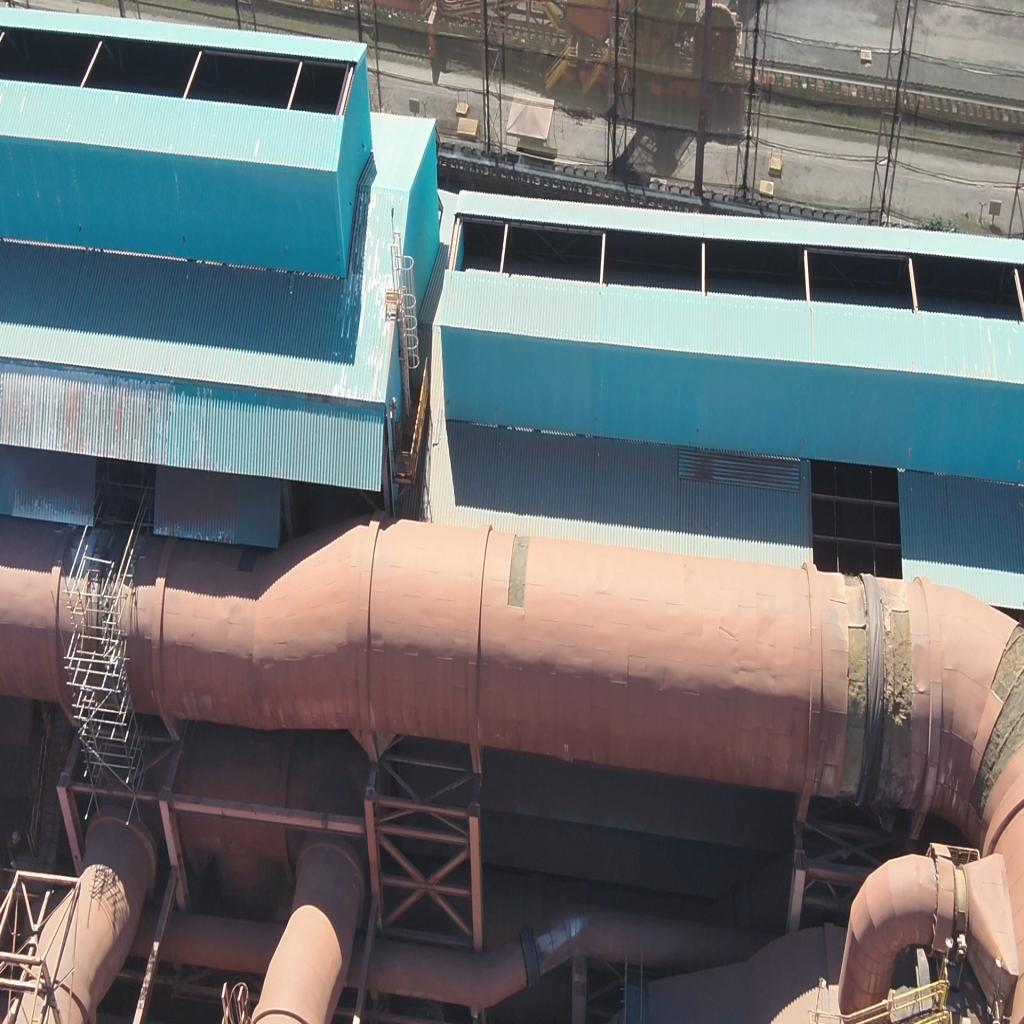Failures: (972, 623, 1024, 813), (887, 602, 910, 808), (842, 626, 868, 804), (507, 532, 529, 610)
